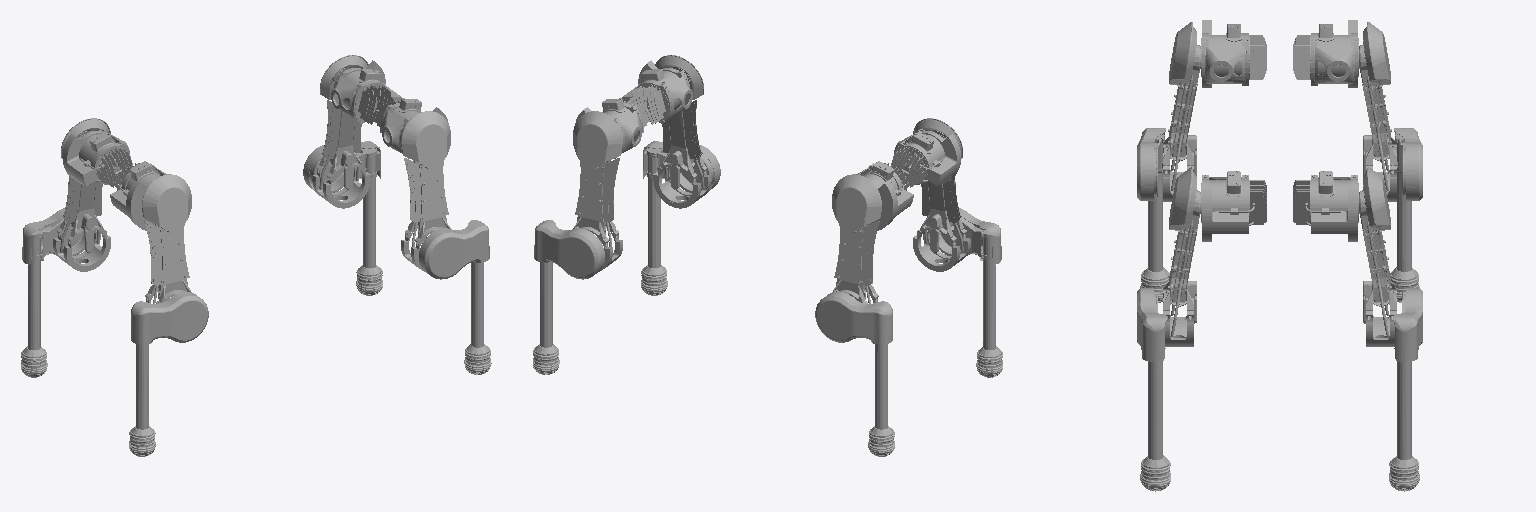
--- Render facts (derived) ---
Views: 3 orthographic renders of the robot side by side, from view 1: azimuth 30°, elevation 25°; view 2: azimuth 150°, elevation 25°; view 3: azimuth 270°, elevation 25°.
Model anymal with 22 links and 21 joints (12 revolute, 9 fixed), rooted at base, posed all joints at 0.
Visible links, largest first — view 1: RF_THIGH, RH_THIGH, LF_THIGH, LH_THIGH, RH_SHANK, LH_HIP, RF_SHANK, LF_HIP, LH_ADAPTER, LF_ADAPTER, RF_ADAPTER, RH_HIP (+4 smaller); view 2: LF_THIGH, LH_THIGH, RF_THIGH, RH_THIGH, LH_SHANK, RH_HIP, LF_SHANK, RF_HIP, RH_ADAPTER, RF_ADAPTER, LF_ADAPTER, LH_HIP (+4 smaller); view 3: LF_THIGH, RF_THIGH, LH_THIGH, RH_THIGH, LF_HIP, RF_HIP, LH_HIP, RH_HIP, RF_ADAPTER, LF_ADAPTER, LH_ADAPTER, RH_ADAPTER (+4 smaller).
Boxes of the visible links, x1,y1,x2,y2 form: RF_THIGH: [401, 111, 450, 271]; RH_THIGH: [142, 174, 191, 303]; LF_THIGH: [312, 55, 370, 208]; LH_THIGH: [53, 118, 110, 271]; RH_SHANK: [131, 292, 208, 344]; LH_HIP: [63, 129, 132, 187]; RF_SHANK: [419, 220, 489, 279]; LF_HIP: [331, 60, 401, 124]; LH_ADAPTER: [21, 230, 47, 377]; LF_ADAPTER: [356, 148, 382, 295]; RF_ADAPTER: [464, 262, 491, 374]; RH_HIP: [110, 161, 167, 230]; LF_THIGH: [573, 111, 622, 271]; LH_THIGH: [832, 174, 881, 303]; RF_THIGH: [653, 55, 711, 208]; RH_THIGH: [913, 118, 970, 271]; LH_SHANK: [815, 292, 892, 344]; RH_HIP: [891, 129, 960, 187]; LF_SHANK: [534, 220, 604, 279]; RF_HIP: [622, 60, 692, 124]; RH_ADAPTER: [976, 230, 1002, 377]; RF_ADAPTER: [641, 148, 667, 295]; LF_ADAPTER: [533, 262, 559, 374]; LH_HIP: [856, 161, 913, 230]; LF_THIGH: [1359, 167, 1396, 346]; RF_THIGH: [1163, 167, 1200, 346]; LH_THIGH: [1359, 22, 1396, 201]; RH_THIGH: [1163, 22, 1200, 201]; LF_HIP: [1293, 171, 1358, 241]; RF_HIP: [1201, 171, 1266, 241]; LH_HIP: [1293, 20, 1358, 87]; RH_HIP: [1201, 20, 1266, 87]; RF_ADAPTER: [1140, 361, 1170, 491]; LF_ADAPTER: [1389, 361, 1419, 491]; LH_ADAPTER: [1390, 134, 1419, 302]; RH_ADAPTER: [1140, 134, 1169, 302].
Size in the robot's own frame: 0.9429 by 0.568 by 0.6502 metres.
16 mesh visuals loaded from 8 distinct referenced files (7 OBJ); not drawn: 1 (reference not matched to a file when rendering).

URDF robot description (anymal):
<?xml version="1.0" encoding="utf-8"?>
<!-- =================================================================================== -->
<!--   Copyright 2019 ANYbotics, https://www.anybotics.com                               -->
<!-- =================================================================================== -->
<!-- This file contains the description of the ANYmal B robot. -->
<!-- Modified to include joint transmitions and use different mesh files for compatability with Drake -->
<robot name="anymal"
    xmlns:xacro="http://www.ros.org/wiki/xacro">  
    <!-- Material for the visual primitives -->  
    <material name="anymal_material">    
        <color rgba="0.7 0.7 0.7 1.0"/>  
    </material>  
    <!-- Base link -->  
    <link name="base">    
        <visual>      
            <origin rpy="0 0 0" xyz="0 0 0"/>      
            <geometry>        
                <mesh filename="package://anymal_b_simple_description/meshes/anymal_base.obj" scale="0.001 0.001     0.001"/>      
            </geometry>      
            <material name="anymal_material"/>    
        </visual>    
    </link>  
    <!-- Fixed joint to add dummy inertia link -->  
    <joint name="base_to_base_inertia" type="fixed">    
        <parent link="base"/>    
        <child link="base_inertia"/>    
        <origin rpy="0 0 0" xyz="0 0 0"/>  
    </joint>  
    <!-- Dummy inertia link, because KDL cannot have inertia on the base link -->  
    <link name="base_inertia">    
        <inertial>      
            <origin rpy="0 0 0" xyz="-0.001960558279 -0.001413217745 0.050207125344"/>      
            <mass value="16.793507758"/>      
            <inertia ixx="0.217391101503" ixy="-0.00132873239126" ixz="-0.00228200226173" iyy="0.639432546734" iyz="-0.00138078263145" izz="0.62414077654"/>    
        </inertial>  
    </link>  
    <link name="LF_HIP">    
        <visual>      
            <origin rpy="0 0 0.0" xyz="0 0 0"/>      
            <geometry>        
                <mesh filename="package://anymal_b_simple_description/meshes/anymal_hip_l.obj" scale="0.001 0.001     0.001"/>      
            </geometry>      
            <material name="anymal_material"/>    
        </visual>    
        <inertial>      
            <origin rpy="0 0 0" xyz="0.064516258147 -0.003787101702 -0.000152184388"/>      
            <mass value="1.42462064"/>      
            <inertia ixx="0.00243023349564" ixy="-1.53023971e-05" ixz="-2.1819095354e-05" iyy="0.00230257239103" iyz="2.6473021273e-05" izz="0.0019806759227"/>    
        </inertial>  
    </link>  
    <!-- Hip joint -->  
    <joint name="LF_HAA" type="revolute">    
        <parent link="base"/>    
        <child link="LF_HIP"/>    
        <origin xyz="0.277 0.116 0.0"/>    
        <axis xyz="1 0 0"/>    
        <limit command_effort="40" current="10" effort="80" gear_velocity="10" lower="-9.42" upper="9.42" velocity="15"/>    
        <dynamics damping="0.0" friction="0.0"/>  
    </joint>  
    <link name="LF_THIGH">    
        <visual>      
            <origin rpy="0 0 0.0" xyz="0 0 0"/>      
            <geometry>        
                <mesh filename="package://anymal_b_simple_description/meshes/anymal_thigh_l.obj" scale="0.001 0.001     0.001"/>      
            </geometry>      
            <material name="anymal_material"/>    
        </visual>    
        <inertial>      
            <origin rpy="0 0 0" xyz="-0.003897968082 0.054226618537 -0.214583373795"/>      
            <mass value="1.634976467"/>      
            <inertia ixx="0.0120367944369" ixy="6.762065206e-05" ixz="0.000287806340448" iyy="0.0120643637939" iyz="-0.00140610131218" izz="0.00249422574881"/>    
        </inertial>  
    </link>  
    <!-- Thigh joint -->  
    <joint name="LF_HFE" type="revolute">    
        <parent link="LF_HIP"/>    
        <child link="LF_THIGH"/>    
        <origin xyz="0.0635                    0.041                    0.0"/>    
        <axis xyz="0 1 0"/>    
        <limit command_effort="40" current="10" effort="80" gear_velocity="10" lower="-9.42" upper="9.42" velocity="15.0"/>    
        <dynamics damping="0.0" friction="0.0"/>  
    </joint>  
    <link name="LF_SHANK">    
        <visual>      
            <origin rpy="0 0 0.0" xyz="0 0 0"/>      
            <geometry>        
                <mesh filename="package://anymal_b_simple_description/meshes/anymal_shank_l.obj" scale="0.001 0.001     0.001"/>      
            </geometry>      
            <material name="anymal_material"/>    
        </visual>    
        <inertial>      
            <origin rpy="0 0 0" xyz="0.030816858139 -0.004617229294 0.000893125713"/>      
            <mass value="0.207204302"/>      
            <inertia ixx="0.0002104880248" ixy="-5.6750980345e-05" ixz="1.0127699391e-05" iyy="0.000676270210023" iyz="-8.22869024e-07" izz="0.000545032674924"/>    
        </inertial>  
    </link>  
    <!-- Shank joint -->  
    <joint name="LF_KFE" type="revolute">    
        <parent link="LF_THIGH"/>    
        <child link="LF_SHANK"/>    
        <origin xyz="0.0 0.109 -0.25"/>    
        <axis xyz="0 1 0"/>    
        <limit command_effort="40" current="10" effort="80" gear_velocity="10" lower="-9.42" upper="9.42" velocity="15.0"/>    
        <dynamics damping="0.0" friction="0.0"/>  
    </joint>  
    <!-- Shank to Adapter joint -->  
    <joint name="LF_SHANK_TO_ADAPTER" type="fixed">    
        <parent link="LF_SHANK"/>    
        <child link="LF_ADAPTER"/>    
        <origin rpy="0.0 0.0 0.0" xyz="0.1 -0.02 0.0"/>  
    </joint>  
    <!-- Adapter link -->  
    <link name="LF_ADAPTER">    
        <visual>      
            <origin rpy="0 0 0.0" xyz="0 0 0.032"/>      
            <geometry>        
                <mesh filename="package://anymal_b_simple_description/meshes/anymal_foot.obj" scale="0.001 0.001     0.001"/>      
            </geometry>      
            <material name="anymal_material"/>    
        </visual>    
        <inertial>      
            <origin rpy="0 0 0" xyz="-8.66e-10 -1.472e-09 -0.244345749188"/>      
            <mass value="0.140170767"/>      
            <inertia ixx="0.00159938741862" ixy="-9.32e-13" ixz="1.039e-11" iyy="0.00159938741932" iyz="1.7563e-11" izz="5.4423177329e-05"/>    
        </inertial>  
    </link>  
    <!-- Adapter to Foot joint -->  
    <joint name="LF_ADAPTER_TO_FOOT" type="fixed">    
        <parent link="LF_ADAPTER"/>    
        <child link="LF_FOOT"/>    
        <origin rpy="0.0 0.0 0.0" xyz="0.0 0.0 -0.32125"/>  
    </joint>  
    <!-- Foot link -->  
    <link name="LF_FOOT">    
        <collision>      
            <origin xyz="0 0 0.02325"/>      
            <geometry>        
                <sphere radius="0.031"/>      
            </geometry>    
        </collision>  
    </link>  
    <!-- Gazebo customization -->  
    <gazebo reference="LF_FOOT">    
        <kp>1000000.0</kp>    
        <kd>100.0</kd>    
        <mu1>0.8</mu1>    
        <mu2>0.8</mu2>  
    </gazebo>  
    <link name="RF_HIP">    
        <visual>      
            <origin rpy="0 0 0.0" xyz="0 0 0"/>      
            <geometry>        
                <mesh filename="package://anymal_b_simple_description/meshes/anymal_hip_r.obj" scale="0.001 0.001     0.001"/>      
            </geometry>      
            <material name="anymal_material"/>    
        </visual>    
        <inertial>      
            <origin rpy="0 0 0" xyz="0.064516258147 0.003787101702 -0.000152184388"/>      
            <mass value="1.42462064"/>      
            <inertia ixx="0.00243023349564" ixy="1.53023971e-05" ixz="-2.1819095354e-05" iyy="0.00230257239103" iyz="-2.6473021273e-05" izz="0.0019806759227"/>    
        </inertial>  
    </link>  
    <!-- Hip joint -->  
    <joint name="RF_HAA" type="revolute">    
        <parent link="base"/>    
        <child link="RF_HIP"/>    
        <origin xyz="0.277 -0.116 0.0"/>    
        <axis xyz="1 0 0"/>    
        <limit command_effort="40" current="10" effort="80" gear_velocity="10" lower="-9.42" upper="9.42" velocity="15"/>    
        <dynamics damping="0.0" friction="0.0"/>  
    </joint>  
    <link name="RF_THIGH">    
        <visual>      
            <origin rpy="0 0 0.0" xyz="0 0 0"/>      
            <geometry>        
                <mesh filename="package://anymal_b_simple_description/meshes/anymal_thigh_r.obj" scale="0.001 0.001     0.001"/>      
            </geometry>      
            <material name="anymal_material"/>    
        </visual>    
        <inertial>      
            <origin rpy="0 0 0" xyz="-0.003897968082 -0.054226618537 -0.214583373795"/>      
            <mass value="1.634976467"/>      
            <inertia ixx="0.0120367944369" ixy="-6.762065206e-05" ixz="0.000287806340448" iyy="0.0120643637939" iyz="0.00140610131218" izz="0.00249422574881"/>    
        </inertial>  
    </link>  
    <!-- Thigh joint -->  
    <joint name="RF_HFE" type="revolute">    
        <parent link="RF_HIP"/>    
        <child link="RF_THIGH"/>    
        <origin xyz="0.0635                    -0.041                    0.0"/>    
        <axis xyz="0 1 0"/>    
        <limit command_effort="40" current="10" effort="80" gear_velocity="10" lower="-9.42" upper="9.42" velocity="15.0"/>    
        <dynamics damping="0.0" friction="0.0"/>  
    </joint>  
    <link name="RF_SHANK">    
        <visual>      
            <origin rpy="0 0 0.0" xyz="0 0 0"/>      
            <geometry>        
                <mesh filename="package://anymal_b_simple_description/meshes/anymal_shank_r.obj" scale="0.001 0.001     0.001"/>      
            </geometry>      
            <material name="anymal_material"/>    
        </visual>    
        <inertial>      
            <origin rpy="0 0 0" xyz="0.030816858139 0.004617229294 0.000893125713"/>      
            <mass value="0.207204302"/>      
            <inertia ixx="0.0002104880248" ixy="5.6750980345e-05" ixz="1.0127699391e-05" iyy="0.000676270210023" iyz="8.22869024e-07" izz="0.000545032674924"/>    
        </inertial>  
    </link>  
    <!-- Shank joint -->  
    <joint name="RF_KFE" type="revolute">    
        <parent link="RF_THIGH"/>    
        <child link="RF_SHANK"/>    
        <origin xyz="0.0 -0.109 -0.25"/>    
        <axis xyz="0 1 0"/>    
        <limit command_effort="40" current="10" effort="80" gear_velocity="10" lower="-9.42" upper="9.42" velocity="15.0"/>    
        <dynamics damping="0.0" friction="0.0"/>  
    </joint>  
    <!-- Shank to Adapter joint -->  
    <joint name="RF_SHANK_TO_ADAPTER" type="fixed">    
        <parent link="RF_SHANK"/>    
        <child link="RF_ADAPTER"/>    
        <origin rpy="-0.0 0.0 -0.0" xyz="0.1 0.02 0.0"/>  
    </joint>  
    <!-- Adapter link -->  
    <link name="RF_ADAPTER">    
        <visual>      
            <origin rpy="0 0 0.0" xyz="0 0 0.032"/>      
            <geometry>        
                <mesh filename="package://anymal_b_simple_description/meshes/anymal_foot.obj" scale="0.001 0.001     0.001"/>      
            </geometry>      
            <material name="anymal_material"/>    
        </visual>    
        <inertial>      
            <origin rpy="0 0 0" xyz="-8.66e-10 -1.472e-09 -0.244345749188"/>      
            <mass value="0.140170767"/>      
            <inertia ixx="0.00159938741862" ixy="-9.32e-13" ixz="1.039e-11" iyy="0.00159938741932" iyz="1.7563e-11" izz="5.4423177329e-05"/>    
        </inertial>  
    </link>  
    <!-- Adapter to Foot joint -->  
    <joint name="RF_ADAPTER_TO_FOOT" type="fixed">    
        <parent link="RF_ADAPTER"/>    
        <child link="RF_FOOT"/>    
        <origin rpy="-0.0 0.0 -0.0" xyz="0.0 -0.0 -0.32125"/>  
    </joint>  
    <!-- Foot link -->  
    <link name="RF_FOOT">    
        <collision>      
            <origin xyz="0 0 0.02325"/>      
            <geometry>        
                <sphere radius="0.031"/>      
            </geometry>    
        </collision>  
    </link>  
    <!-- Gazebo customization -->  
    <gazebo reference="RF_FOOT">    
        <kp>1000000.0</kp>    
        <kd>100.0</kd>    
        <mu1>0.8</mu1>    
        <mu2>0.8</mu2>  
    </gazebo>  
    <link name="LH_HIP">    
        <visual>      
            <origin rpy="0 0 -3.14159265359" xyz="0 0 0"/>      
            <geometry>        
                <mesh filename="package://anymal_b_simple_description/meshes/anymal_hip_r.obj" scale="0.001 0.001     0.001"/>      
            </geometry>      
            <material name="anymal_material"/>    
        </visual>    
        <inertial>      
            <origin rpy="0 0 0" xyz="-0.064516258147 -0.003787101702 -0.000152184388"/>      
            <mass value="1.42462064"/>      
            <inertia ixx="0.00243023349564" ixy="1.53023971e-05" ixz="2.1819095354e-05" iyy="0.00230257239103" iyz="2.6473021273e-05" izz="0.0019806759227"/>    
        </inertial>  
    </link>  
    <!-- Hip joint -->  
    <joint name="LH_HAA" type="revolute">    
        <parent link="base"/>    
        <child link="LH_HIP"/>    
        <origin xyz="-0.277 0.116 0.0"/>    
        <axis xyz="1 0 0"/>    
        <limit command_effort="40" current="10" effort="80" gear_velocity="10" lower="-9.42" upper="9.42" velocity="15"/>    
        <dynamics damping="0.0" friction="0.0"/>  
    </joint>  
    <link name="LH_THIGH">    
        <visual>      
            <origin rpy="0 0 -3.14159265359" xyz="0 0 0"/>      
            <geometry>        
                <mesh filename="package://anymal_b_simple_description/meshes/anymal_thigh_r.obj" scale="0.001 0.001     0.001"/>      
            </geometry>      
            <material name="anymal_material"/>    
        </visual>    
        <inertial>      
            <origin rpy="0 0 0" xyz="0.003897968082 0.054226618537 -0.214583373795"/>      
            <mass value="1.634976467"/>      
            <inertia ixx="0.0120367944369" ixy="-6.762065206e-05" ixz="-0.000287806340448" iyy="0.0120643637939" iyz="-0.00140610131218" izz="0.00249422574881"/>    
        </inertial>  
    </link>  
    <!-- Thigh joint -->  
    <joint name="LH_HFE" type="revolute">    
        <parent link="LH_HIP"/>    
        <child link="LH_THIGH"/>    
        <origin xyz="-0.0635                    0.041                    0.0"/>    
        <axis xyz="0 1 0"/>    
        <limit command_effort="40" current="10" effort="80" gear_velocity="10" lower="-9.42" upper="9.42" velocity="15.0"/>    
        <dynamics damping="0.0" friction="0.0"/>  
    </joint>  
    <link name="LH_SHANK">    
        <visual>      
            <origin rpy="0 0 -3.14159265359" xyz="0 0 0"/>      
            <geometry>        
                <mesh filename="package://anymal_b_simple_description/meshes/anymal_shank_r.obj" scale="0.001 0.001     0.001"/>      
            </geometry>      
            <material name="anymal_material"/>    
        </visual>    
        <inertial>      
            <origin rpy="0 0 0" xyz="-0.030816858139 -0.004617229294 0.000893125713"/>      
            <mass value="0.207204302"/>      
            <inertia ixx="0.0002104880248" ixy="5.6750980345e-05" ixz="-1.0127699391e-05" iyy="0.000676270210023" iyz="-8.22869024e-07" izz="0.000545032674924"/>    
        </inertial>  
    </link>  
    <!-- Shank joint -->  
    <joint name="LH_KFE" type="revolute">    
        <parent link="LH_THIGH"/>    
        <child link="LH_SHANK"/>    
        <origin xyz="-0.0 0.109 -0.25"/>    
        <axis xyz="0 1 0"/>    
        <limit command_effort="40" current="10" effort="80" gear_velocity="10" lower="-9.42" upper="9.42" velocity="15.0"/>    
        <dynamics damping="0.0" friction="0.0"/>  
    </joint>  
    <!-- Shank to Adapter joint -->  
    <joint name="LH_SHANK_TO_ADAPTER" type="fixed">    
        <parent link="LH_SHANK"/>    
        <child link="LH_ADAPTER"/>    
        <origin rpy="0.0 -0.0 -0.0" xyz="-0.1 -0.02 0.0"/>  
    </joint>  
    <!-- Adapter link -->  
    <link name="LH_ADAPTER">    
        <visual>      
            <origin rpy="0 0 -3.14159265359" xyz="0 0 0.032"/>      
            <geometry>        
                <mesh filename="package://anymal_b_simple_description/meshes/anymal_foot.obj" scale="0.001 0.001     0.001"/>      
            </geometry>      
            <material name="anymal_material"/>    
        </visual>    
        <inertial>      
            <origin rpy="0 0 0" xyz="-8.66e-10 -1.472e-09 -0.244345749188"/>      
            <mass value="0.140170767"/>      
            <inertia ixx="0.00159938741862" ixy="-9.32e-13" ixz="1.039e-11" iyy="0.00159938741932" iyz="1.7563e-11" izz="5.4423177329e-05"/>    
        </inertial>  
    </link>  
    <!-- Adapter to Foot joint -->  
    <joint name="LH_ADAPTER_TO_FOOT" type="fixed">    
        <parent link="LH_ADAPTER"/>    
        <child link="LH_FOOT"/>    
        <origin rpy="0.0 -0.0 -0.0" xyz="-0.0 0.0 -0.32125"/>  
    </joint>  
    <!-- Foot link -->  
    <link name="LH_FOOT">    
        <collision>      
            <origin xyz="0 0 0.02325"/>      
            <geometry>        
                <sphere radius="0.031"/>      
            </geometry>    
        </collision>  
    </link>  
    <!-- Gazebo customization -->  
    <gazebo reference="LH_FOOT">    
        <kp>1000000.0</kp>    
        <kd>100.0</kd>    
        <mu1>0.8</mu1>    
        <mu2>0.8</mu2>  
    </gazebo>  
    <link name="RH_HIP">    
        <visual>      
            <origin rpy="0 0 -3.14159265359" xyz="0 0 0"/>      
            <geometry>        
                <mesh filename="package://anymal_b_simple_description/meshes/anymal_hip_l.obj" scale="0.001 0.001     0.001"/>      
            </geometry>      
            <material name="anymal_material"/>    
        </visual>    
        <inertial>      
            <origin rpy="0 0 0" xyz="-0.064516258147 0.003787101702 -0.000152184388"/>      
            <mass value="1.42462064"/>      
            <inertia ixx="0.00243023349564" ixy="-1.53023971e-05" ixz="2.1819095354e-05" iyy="0.00230257239103" iyz="-2.6473021273e-05" izz="0.0019806759227"/>    
        </inertial>  
    </link>  
    <!-- Hip joint -->  
    <joint name="RH_HAA" type="revolute">    
        <parent link="base"/>    
        <child link="RH_HIP"/>    
        <origin xyz="-0.277 -0.116 0.0"/>    
        <axis xyz="1 0 0"/>    
        <limit command_effort="40" current="10" effort="80" gear_velocity="10" lower="-9.42" upper="9.42" velocity="15"/>    
        <dynamics damping="0.0" friction="0.0"/>  
    </joint>  
    <link name="RH_THIGH">    
        <visual>      
            <origin rpy="0 0 -3.14159265359" xyz="0 0 0"/>      
            <geometry>        
                <mesh filename="package://anymal_b_simple_description/meshes/anymal_thigh_l.obj" scale="0.001 0.001     0.001"/>      
            </geometry>      
            <material name="anymal_material"/>    
        </visual>    
        <inertial>      
            <origin rpy="0 0 0" xyz="0.003897968082 -0.054226618537 -0.214583373795"/>      
            <mass value="1.634976467"/>      
            <inertia ixx="0.0120367944369" ixy="6.762065206e-05" ixz="-0.000287806340448" iyy="0.0120643637939" iyz="0.00140610131218" izz="0.00249422574881"/>    
        </inertial>  
    </link>  
    <!-- Thigh joint -->  
    <joint name="RH_HFE" type="revolute">    
        <parent link="RH_HIP"/>    
        <child link="RH_THIGH"/>    
        <origin xyz="-0.0635                    -0.041                    0.0"/>    
        <axis xyz="0 1 0"/>    
        <limit command_effort="40" current="10" effort="80" gear_velocity="10" lower="-9.42" upper="9.42" velocity="15.0"/>    
        <dynamics damping="0.0" friction="0.0"/>  
    </joint>  
    <link name="RH_SHANK">    
        <visual>      
            <origin rpy="0 0 -3.14159265359" xyz="0 0 0"/>      
            <geometry>        
                <mesh filename="package://anymal_b_simple_description/meshes/anymal_shank_l.obj" scale="0.001 0.001     0.001"/>      
            </geometry>      
            <material name="anymal_material"/>    
        </visual>    
        <inertial>      
            <origin rpy="0 0 0" xyz="-0.030816858139 0.004617229294 0.000893125713"/>      
            <mass value="0.207204302"/>      
            <inertia ixx="0.0002104880248" ixy="-5.6750980345e-05" ixz="-1.0127699391e-05" iyy="0.000676270210023" iyz="8.22869024e-07" izz="0.000545032674924"/>    
        </inertial>  
    </link>  
    <!-- Shank joint -->  
    <joint name="RH_KFE" type="revolute">    
        <parent link="RH_THIGH"/>    
        <child link="RH_SHANK"/>    
        <origin xyz="-0.0 -0.109 -0.25"/>    
        <axis xyz="0 1 0"/>    
        <limit command_effort="40" current="10" effort="80" gear_velocity="10" lower="-9.42" upper="9.42" velocity="15.0"/>    
        <dynamics damping="0.0" friction="0.0"/>  
    </joint>  
    <!-- Shank to Adapter joint -->  
    <joint name="RH_SHANK_TO_ADAPTER" type="fixed">    
        <parent link="RH_SHANK"/>    
        <child link="RH_ADAPTER"/>    
        <origin rpy="-0.0 -0.0 0.0" xyz="-0.1 0.02 0.0"/>  
    </joint>  
    <!-- Adapter link -->  
    <link name="RH_ADAPTER">    
        <visual>      
            <origin rpy="0 0 -3.14159265359" xyz="0 0 0.032"/>      
            <geometry>        
                <mesh filename="package://anymal_b_simple_description/meshes/anymal_foot.obj" scale="0.001 0.001     0.001"/>      
            </geometry>      
            <material name="anymal_material"/>    
        </visual>    
        <inertial>      
            <origin rpy="0 0 0" xyz="-8.66e-10 -1.472e-09 -0.244345749188"/>      
            <mass value="0.140170767"/>      
            <inertia ixx="0.00159938741862" ixy="-9.32e-13" ixz="1.039e-11" iyy="0.00159938741932" iyz="1.7563e-11" izz="5.4423177329e-05"/>    
        </inertial>  
    </link>  
    <!-- Adapter to Foot joint -->  
    <joint name="RH_ADAPTER_TO_FOOT" type="fixed">    
        <parent link="RH_ADAPTER"/>    
        <child link="RH_FOOT"/>    
        <origin rpy="-0.0 -0.0 0.0" xyz="-0.0 -0.0 -0.32125"/>  
    </joint>  
    <!-- Foot link -->  
    <link name="RH_FOOT">    
        <collision>      
            <origin xyz="0 0 0.02325"/>      
            <geometry>        
                <sphere radius="0.031"/>      
            </geometry>    
        </collision>  
    </link>  
    <!-- Gazebo customization -->  
    <gazebo reference="RH_FOOT">    
        <kp>1000000.0</kp>    
        <kd>100.0</kd>    
        <mu1>0.8</mu1>    
        <mu2>0.8</mu2>  
    </gazebo>  
    <!-- Add transmissions: necessary for Drake -->
    <transmission name="LF_HAA_transmission">
        <type>transmission_interface/SimpleTransmission</type>
        <joint name="LF_HAA"/>
        <actuator name="LF_HAA_actuator"/>
    </transmission>
    <transmission name="LF_HFE_transmission">
        <type>transmission_interface/SimpleTransmission</type>
        <joint name="LF_HFE"/>
        <actuator name="LF_HFE_actuator"/>
    </transmission>
    <transmission name="LF_KFE_transmission">
        <type>transmission_interface/SimpleTransmission</type>
        <joint name="LF_KFE"/>
        <actuator name="LF_KFE_actuator"/>
    </transmission>
    <transmission name="RF_HAA_transmission">
        <type>transmission_interface/SimpleTransmission</type>
        <joint name="RF_HAA"/>
        <actuator name="RF_HAA_actuator"/>
    </transmission>
    <transmission name="RF_HFE_transmission">
        <type>transmission_interface/SimpleTransmission</type>
        <joint name="RF_HFE"/>
        <actuator name="RF_HFE_actuator"/>
    </transmission>
    <transmission name="RF_KFE_transmission">
        <type>transmission_interface/SimpleTransmission</type>
        <joint name="RF_KFE"/>
        <actuator name="RF_KFE_actuator"/>
    </transmission>
    <transmission name="LH_HAA_transmission">
        <type>transmission_interface/SimpleTransmission</type>
        <joint name="LH_HAA"/>
        <actuator name="LH_HAA_actuator"/>
    </transmission>
    <transmission name="LH_HFE_transmission">
        <type>transmission_interface/SimpleTransmission</type>
        <joint name="LH_HFE"/>
        <actuator name="LH_HFE_actuator"/>
    </transmission>
    <transmission name="LH_KFE_transmission">
        <type>transmission_interface/SimpleTransmission</type>
        <joint name="LH_KFE"/>
        <actuator name="LH_KFE_actuator"/>
    </transmission>
    <transmission name="RH_HAA_transmission">
        <type>transmission_interface/SimpleTransmission</type>
        <joint name="RH_HAA"/>
        <actuator name="RH_HAA_actuator"/>
    </transmission>
    <transmission name="RH_HFE_transmission">
        <type>transmission_interface/SimpleTransmission</type>
        <joint name="RH_HFE"/>
        <actuator name="RH_HFE_actuator"/>
    </transmission>
    <transmission name="RH_KFE_transmission">
        <type>transmission_interface/SimpleTransmission</type>
        <joint name="RH_KFE"/>
        <actuator name="RH_KFE_actuator"/>
    </transmission>
</robot>
